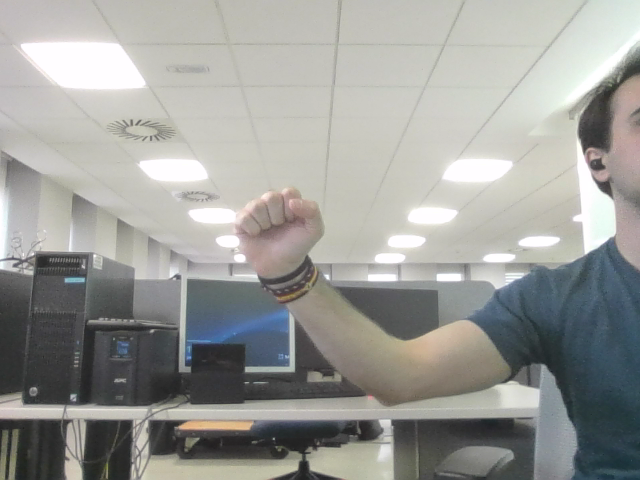Puño: (244, 196, 309, 250)
